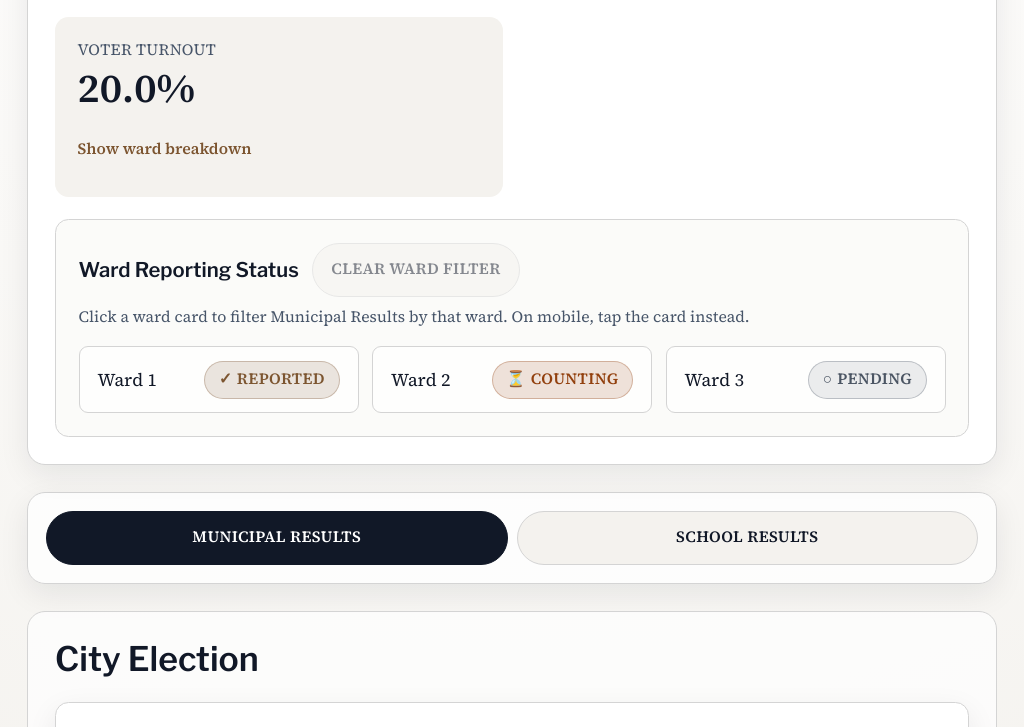
Test: App ward filtering › filters municipal races to citywide + selected ward and resets to all
(page scrolled)
Expected: the button "Clear Ward Filter" is disabled, [312, 242, 520, 296]
Click the button with aria-label "show ward 1 ballot items".
click(218, 380)  # box [78, 346, 358, 413]
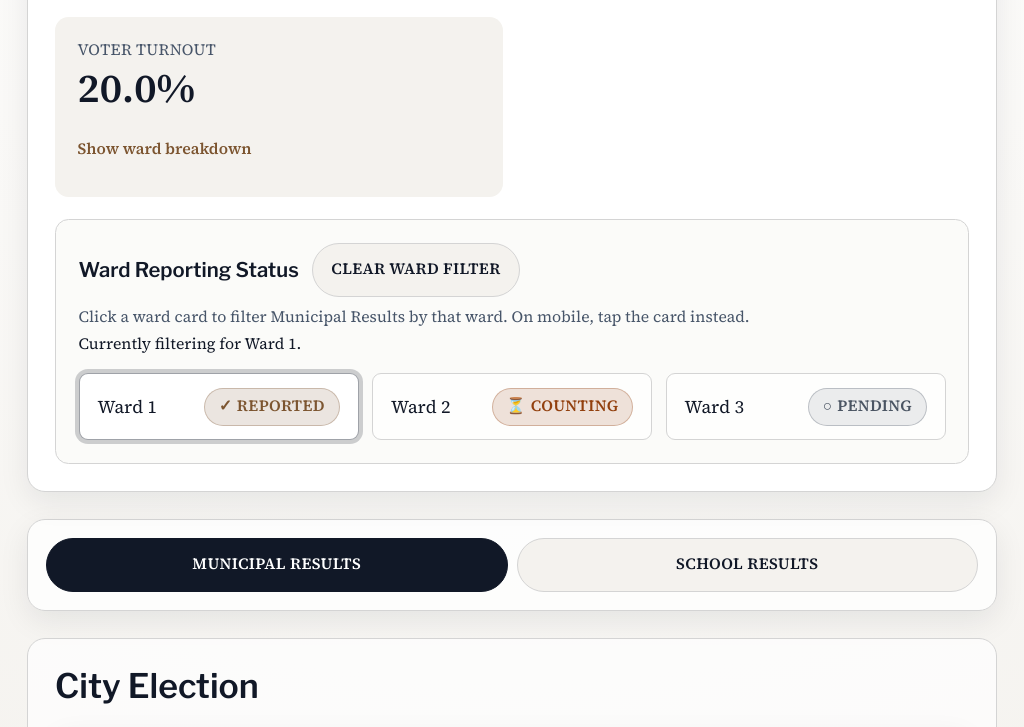
Expected: the button "Clear Ward Filter" is enabled
Click the button "Clear Ward Filter".
click(416, 270)  # box [312, 242, 520, 296]
(page scrolled)
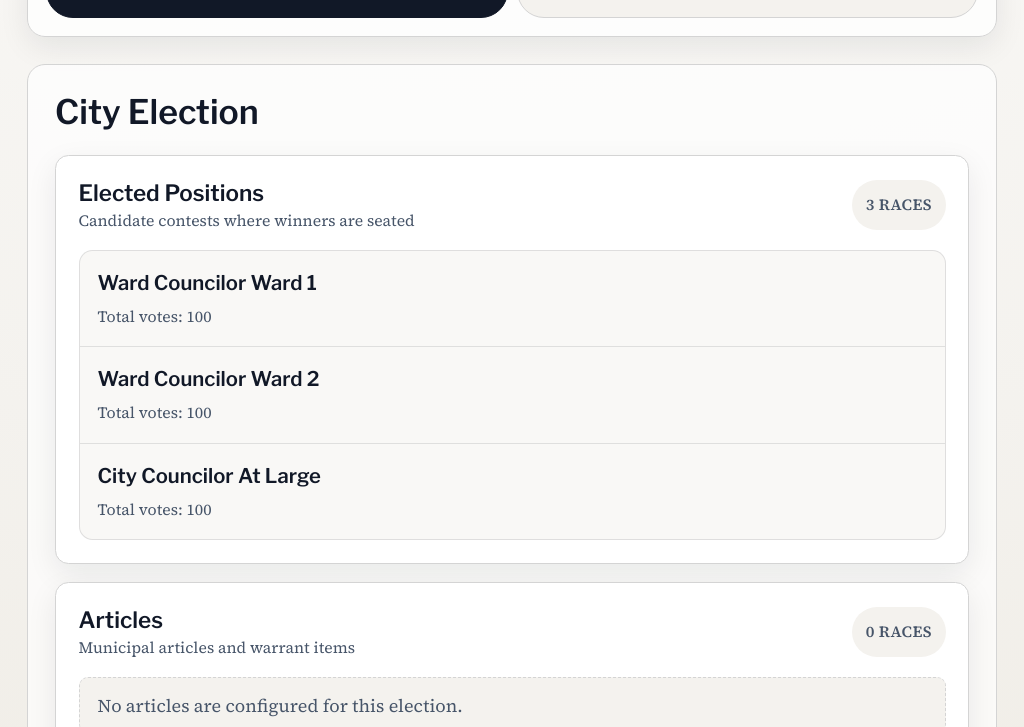
Expected: the heading "Ward Councilor Ward 2" is shown, [98, 366, 320, 391]
